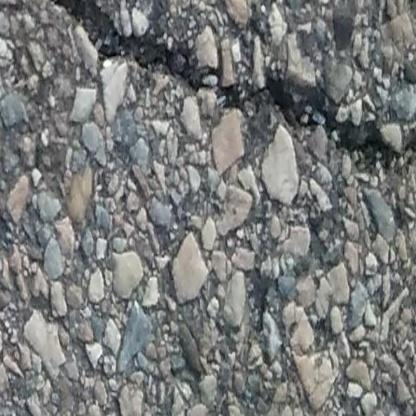Cracks: (36, 0, 416, 166)
